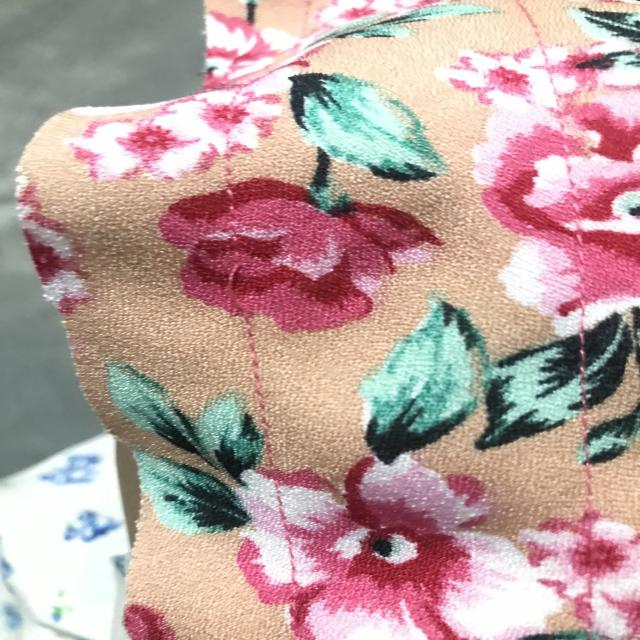skip: (190, 245, 270, 335)
